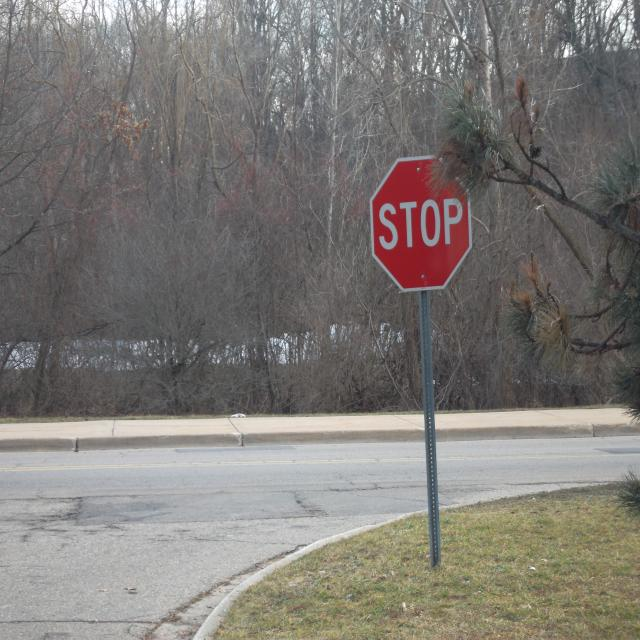stop: (368, 154, 474, 294)
